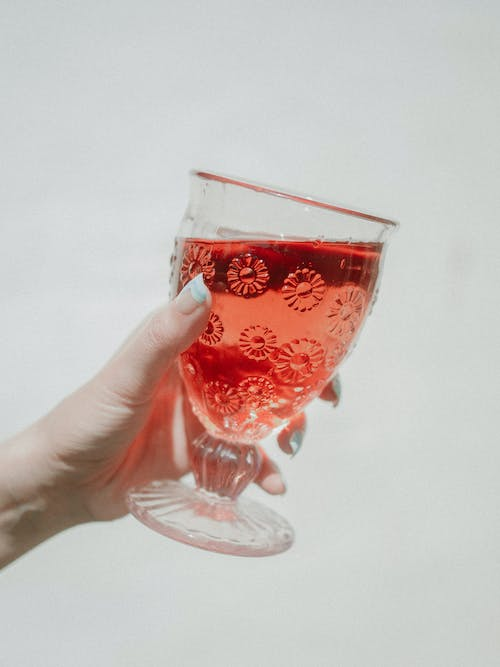alcohol: (123, 166, 400, 558)
